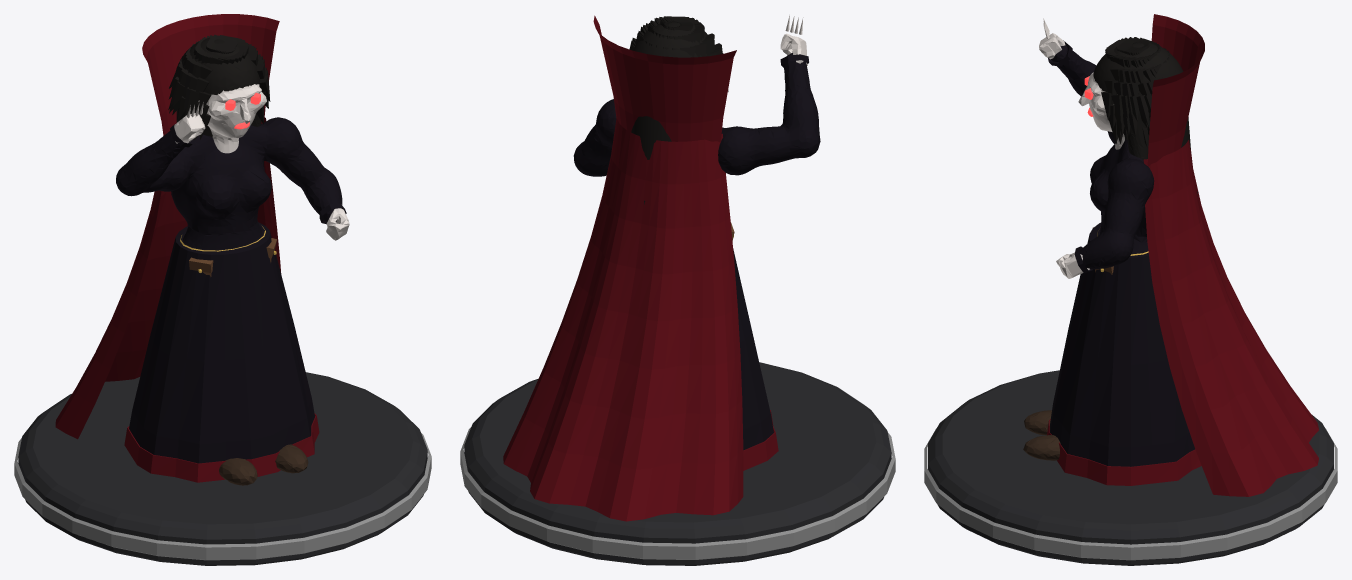
The model's file is vampire.glb.
3 renders of one model, left to right at view 1: azimuth 30°, elevation 25°; view 2: azimuth 150°, elevation 25°; view 3: azimuth 270°, elevation 25°, orthographic. The views are drawn at different scales.
Parts seen in each view (by area): view 1: vampire; view 2: vampire; view 3: vampire.
Boxes of the visible parts, x1,y1,x2,y2 form: vampire: [14, 14, 431, 565]; vampire: [460, 15, 895, 565]; vampire: [924, 14, 1337, 565].
Bounding box in the file's own units: 0.856 × 0.994 × 0.8498.
